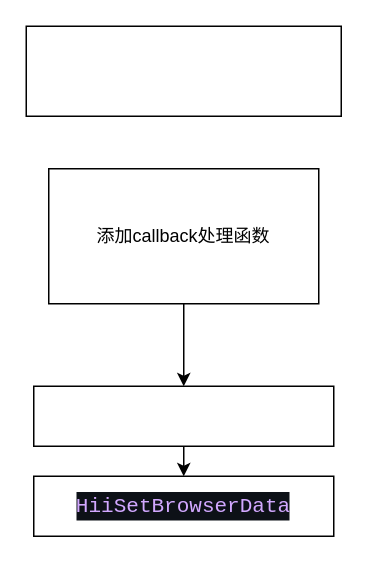
Image size: 368x563. Some labels were removed from this diagram. The shapes that lost their labels are listed below. From the top down, each one's centre as x and y in pixels, then its label:
At point 183,70: "添加VFR、UNI资源".
At point 183,415: "HiiGetBrowserData".
